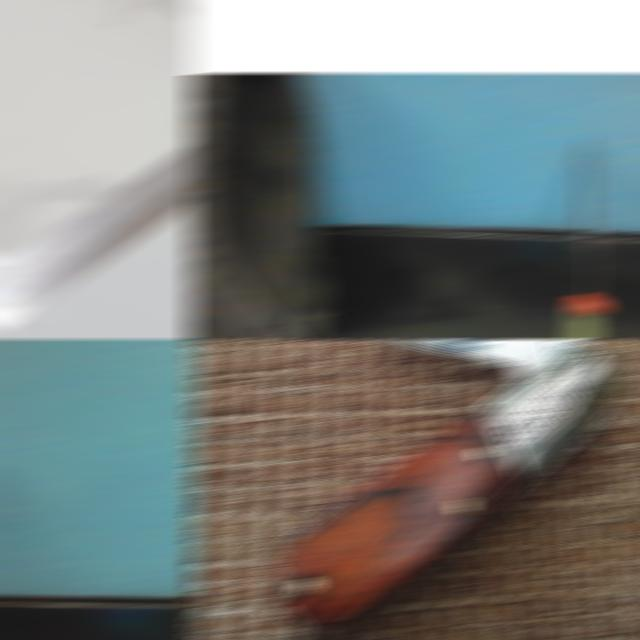Knife: (0, 144, 198, 331), (566, 138, 610, 338)
